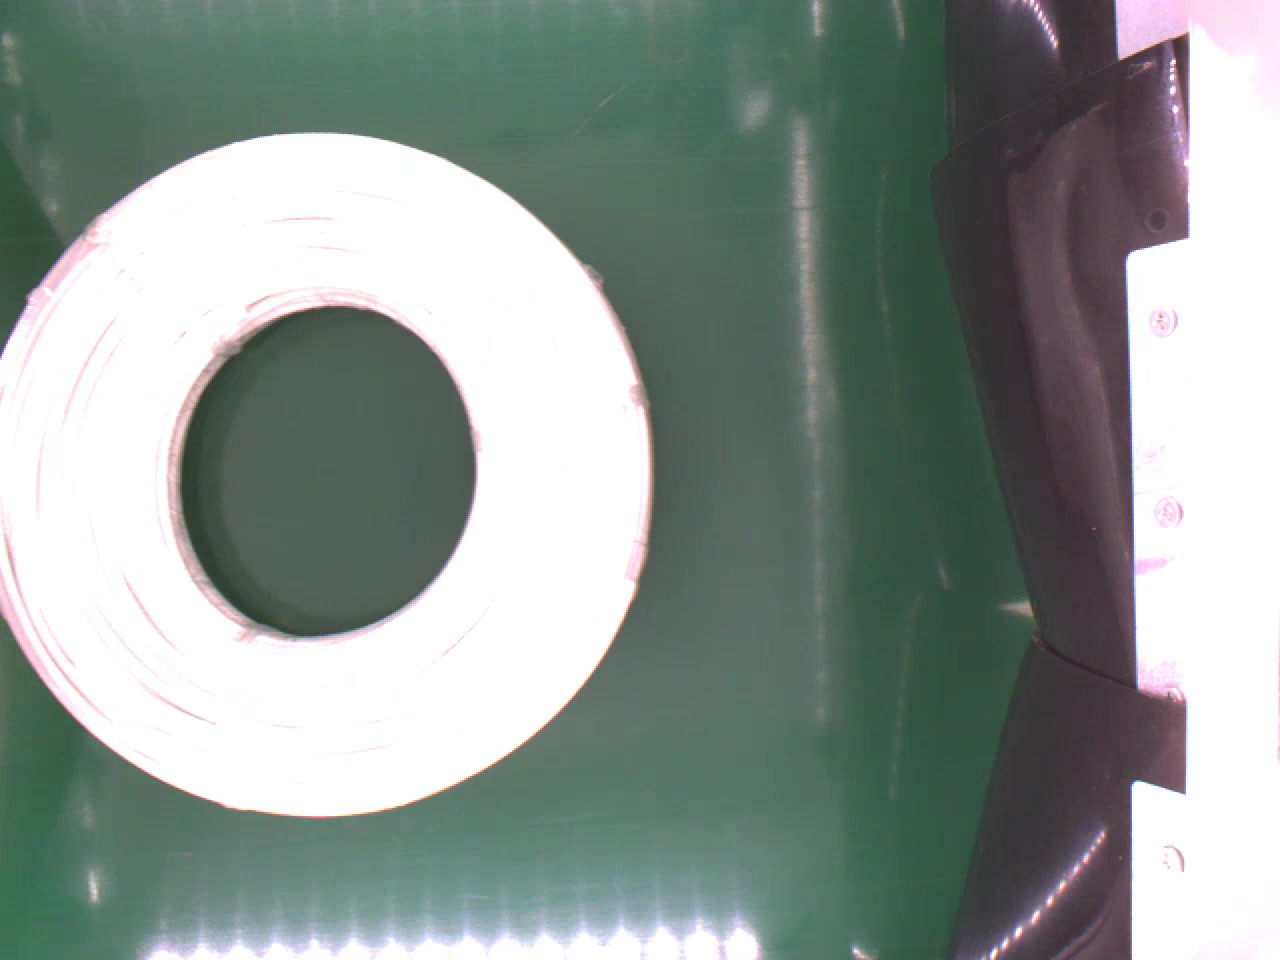white: (0, 130, 655, 824)
